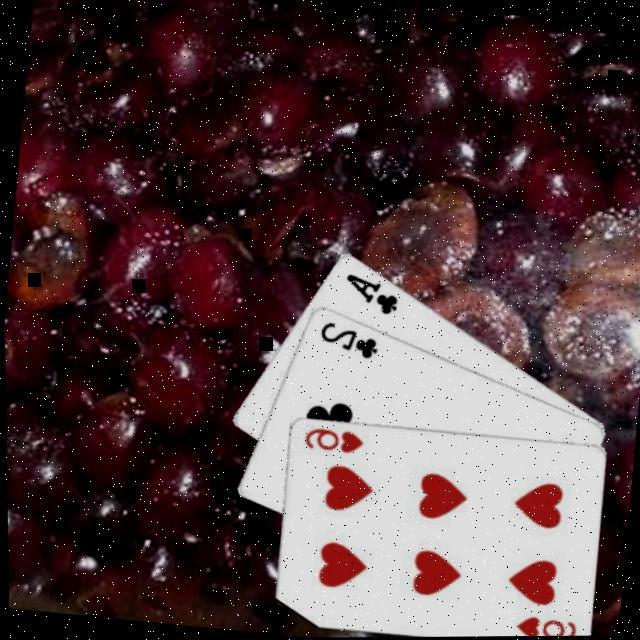2C: (313, 319, 383, 364)
6H: (298, 423, 365, 458), (510, 614, 577, 637)
AC: (338, 271, 403, 320)
